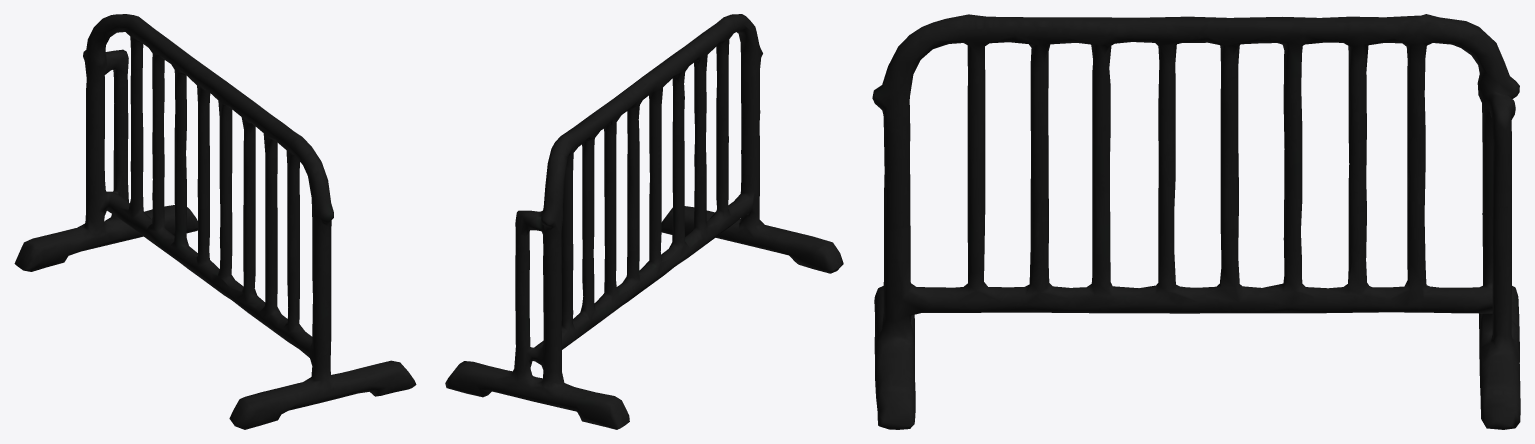
File: crowd_barrier.glb
The picture shows the model from 3 angles, left to right: view 1: azimuth 30°, elevation 25°; view 2: azimuth 150°, elevation 25°; view 3: azimuth 270°, elevation 25°; orthographic projection. The views are drawn at different scales.
Bounding box in the file's own units: 0.4503 × 0.6132 × 1.01.
1 material, 1 textured.
